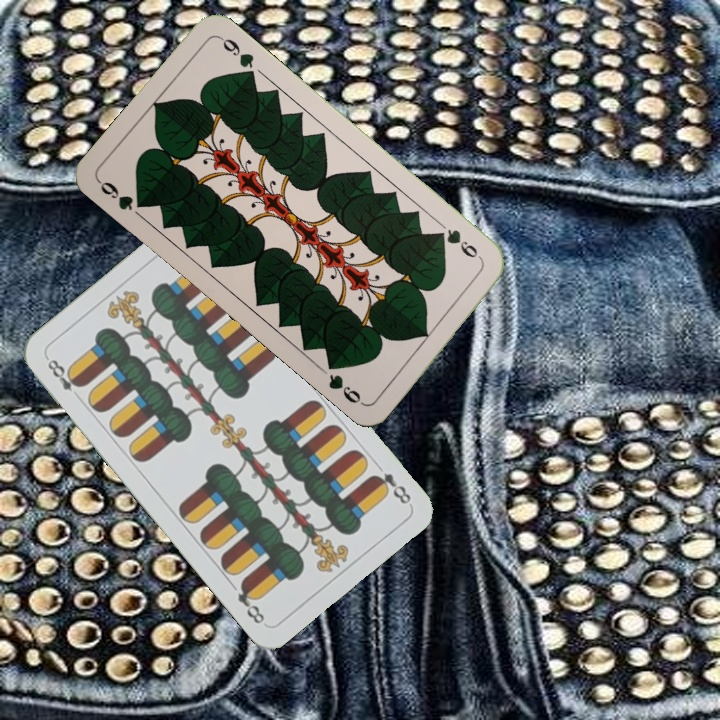E8: (42, 353, 86, 395), (367, 468, 414, 507)
G9: (432, 225, 485, 265), (95, 176, 150, 214)
